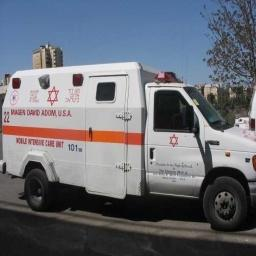Ambulance: (0, 63, 255, 229)
